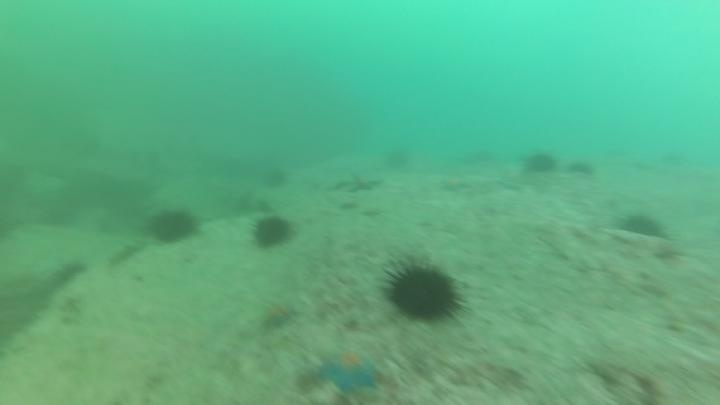echinus: (380, 255, 466, 327), (145, 205, 202, 248), (617, 209, 671, 244), (248, 212, 295, 252), (50, 258, 89, 291), (521, 148, 559, 178), (382, 145, 413, 174), (259, 164, 290, 192), (565, 157, 598, 181)
starfish: (311, 346, 384, 397), (256, 296, 300, 333), (327, 169, 384, 196), (435, 172, 473, 197)
